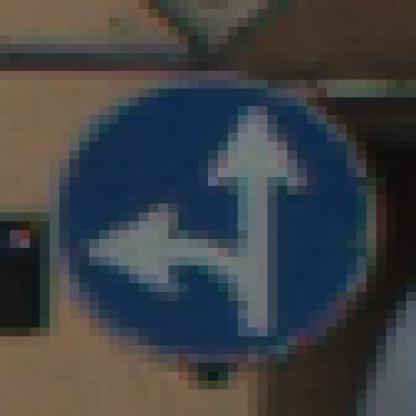Straight or Left: (51, 54, 368, 364)
